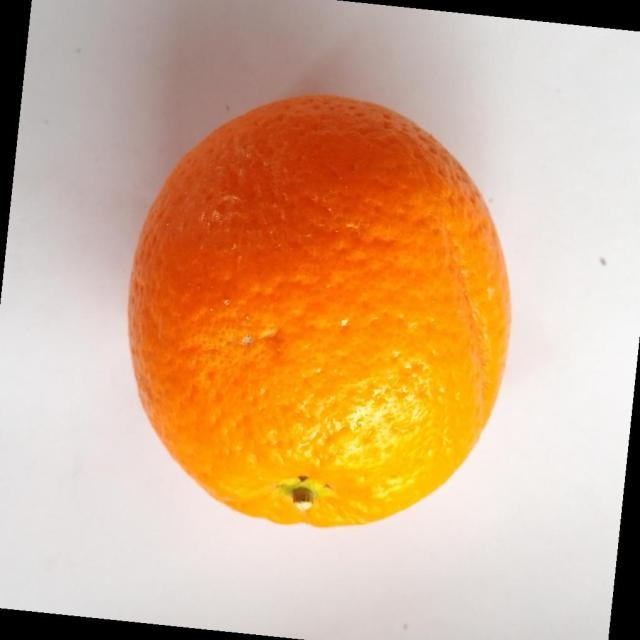agrume: (126, 92, 512, 528)
